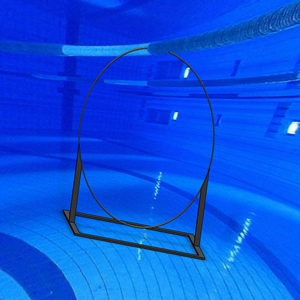circle: (62, 46, 217, 261)
